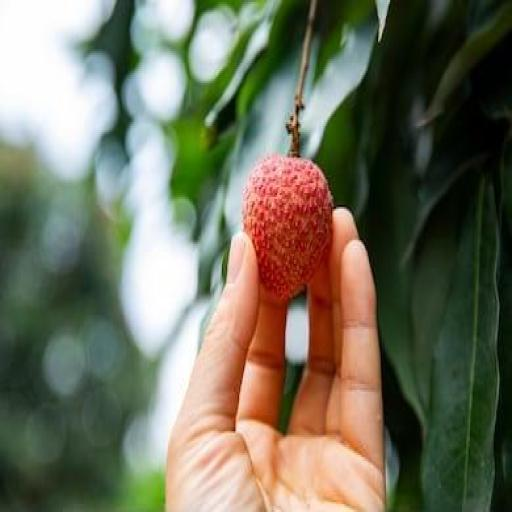lychee: (243, 156, 333, 299)
